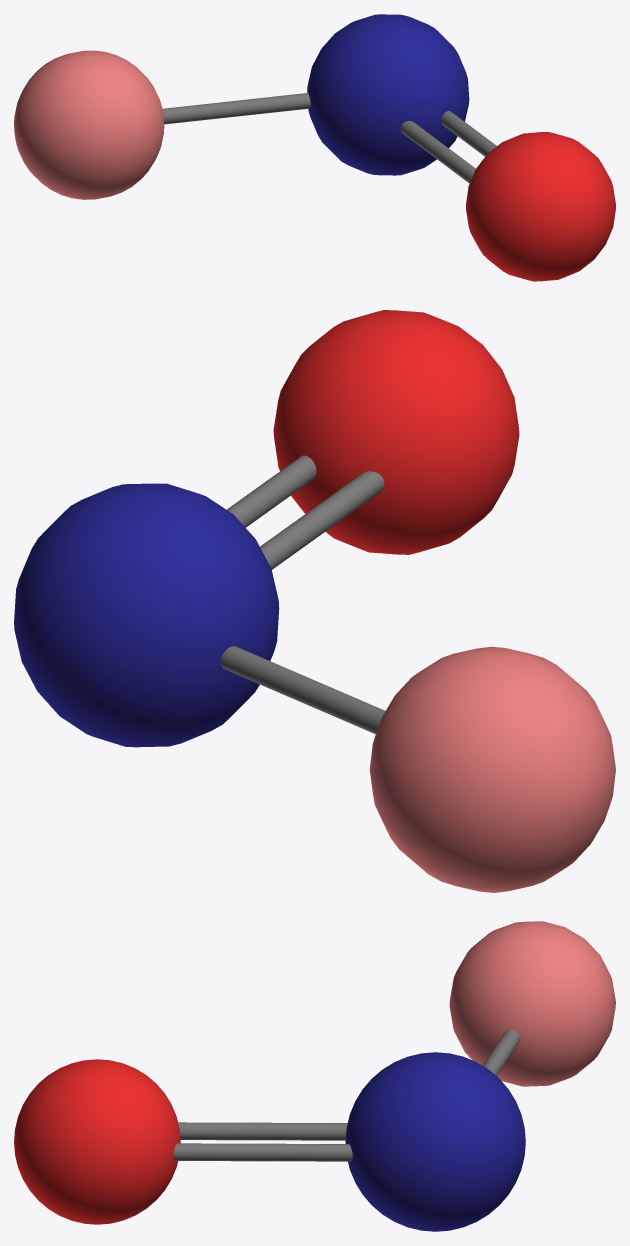
The model's file is FNO.fbx.
The picture shows the model from 3 angles, top to bottom: view 1: azimuth 30°, elevation 25°; view 2: azimuth 150°, elevation 25°; view 3: azimuth 270°, elevation 25°; orthographic projection. The views are drawn at different scales.
Parts seen in each view (by area): view 1: FNO; view 2: FNO; view 3: FNO.
Part boxes in pixels (bbox=[...]): FNO: bbox=[14, 14, 615, 281]; FNO: bbox=[14, 310, 615, 892]; FNO: bbox=[14, 921, 615, 1231].
Bounding box in the file's own units: 5.54 × 1.99 × 6.67.
